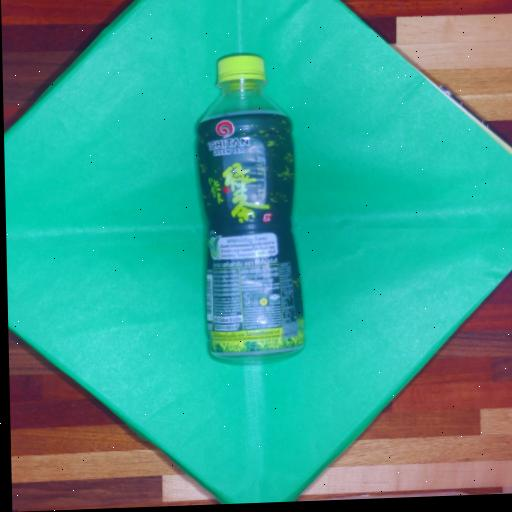bottle: (169, 29, 330, 379)
